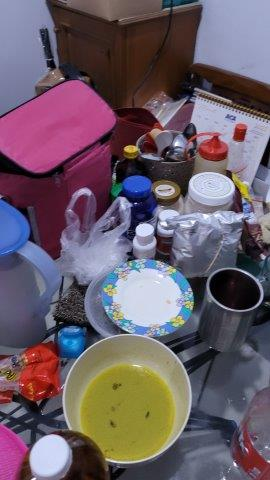plastik: (58, 192, 135, 284)
